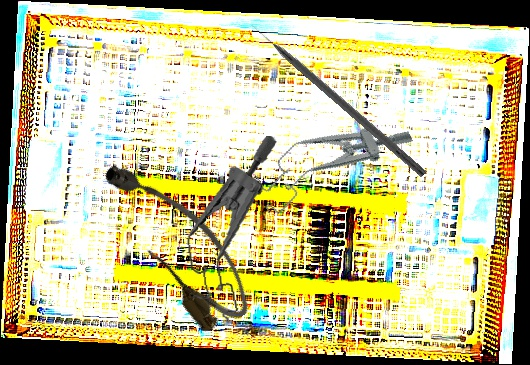Cannula: (91, 140, 265, 341)
Hook Surgical: (249, 19, 429, 178)
Speculum: (171, 135, 299, 325), (246, 98, 419, 219)
